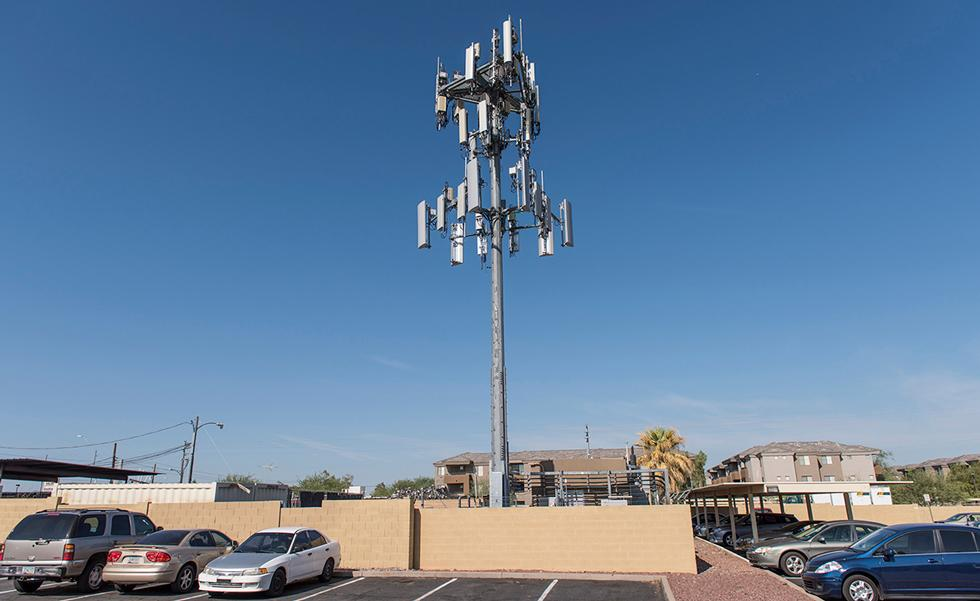antenna: (465, 159, 482, 212), (414, 199, 428, 254), (562, 194, 576, 249), (502, 16, 517, 66), (433, 193, 451, 233), (455, 177, 468, 229), (452, 217, 463, 269), (526, 60, 539, 100), (458, 109, 471, 144), (465, 45, 476, 81), (479, 99, 488, 135)
